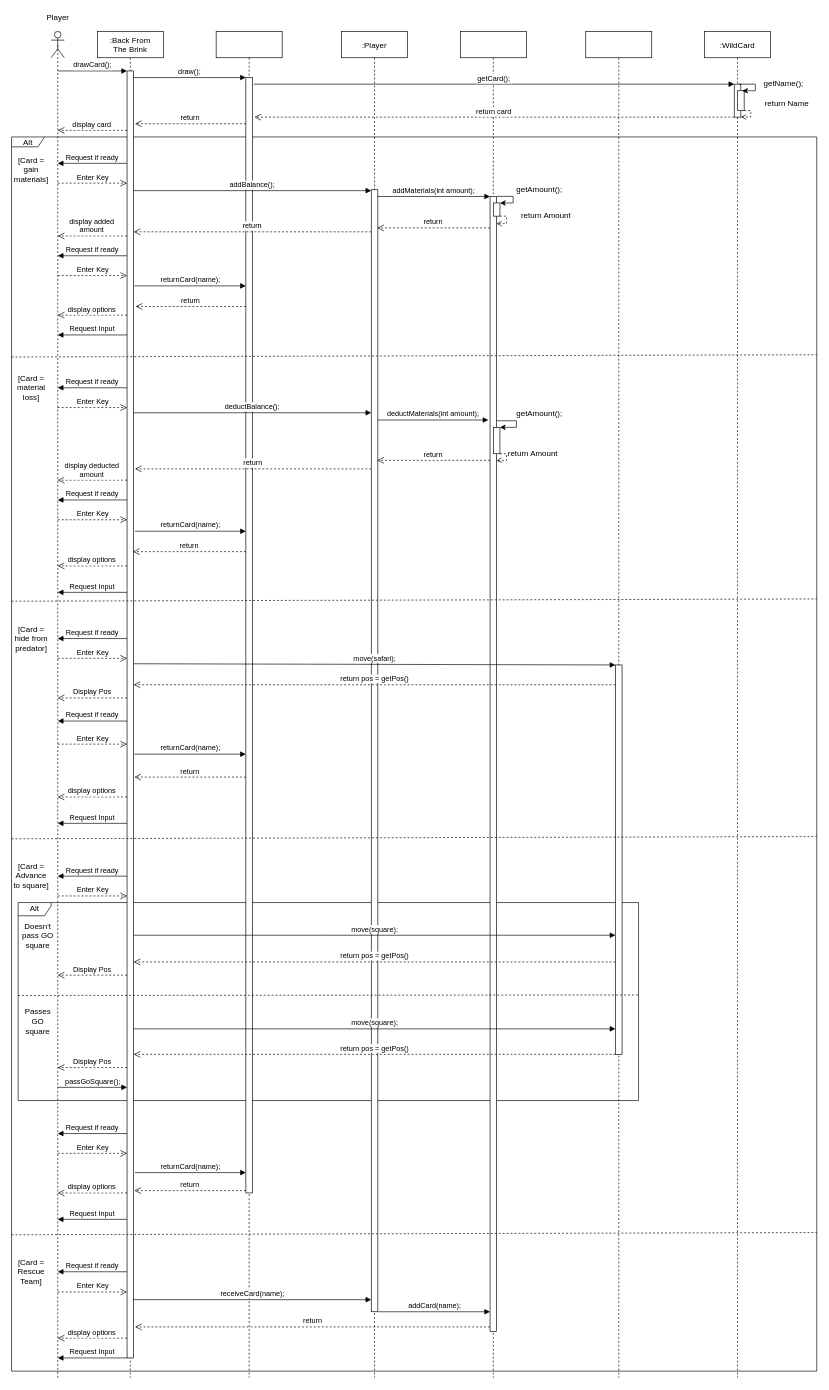
This 829x1390 diagram has some shape labels left out. Here are the shapes that lost their labels. From the top down, the box of each, then its label:
(215, 31, 282, 1378): :Board
(460, 31, 526, 1378): :Inventory
(585, 31, 652, 1378): :Piece
